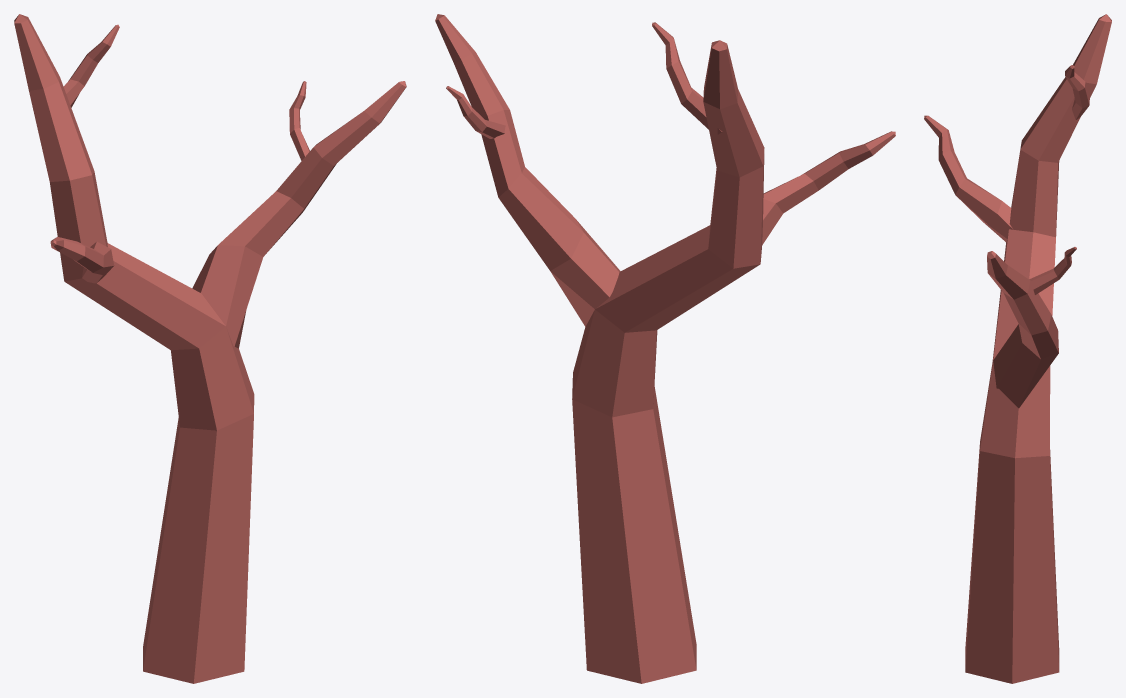
Rendered from Desert_DeadTree.fbx.
The picture shows the model from 3 angles, left to right: view 1: azimuth 30°, elevation 25°; view 2: azimuth 150°, elevation 25°; view 3: azimuth 270°, elevation 25°; orthographic projection. The views are drawn at different scales.
Parts seen in each view (by area): view 1: Desert_DeadTree; view 2: Desert_DeadTree; view 3: Desert_DeadTree.
Boxes of the visible parts, x1,y1,x2,y2 form: Desert_DeadTree: (14,14,406,683); Desert_DeadTree: (435,14,895,683); Desert_DeadTree: (924,14,1111,683).
Bounding box in the file's own units: 198 × 89.01 × 309.
